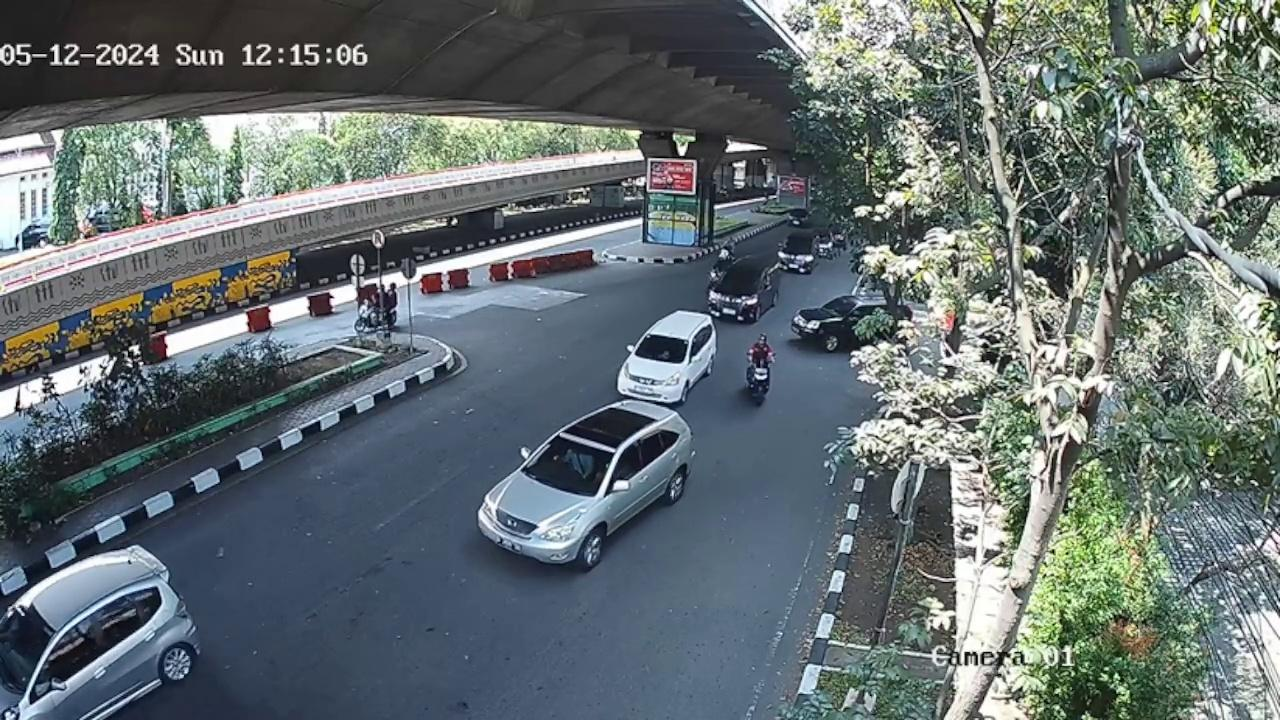pakai: (559, 448, 593, 479)
windshield: (525, 436, 613, 495), (636, 333, 684, 370)
